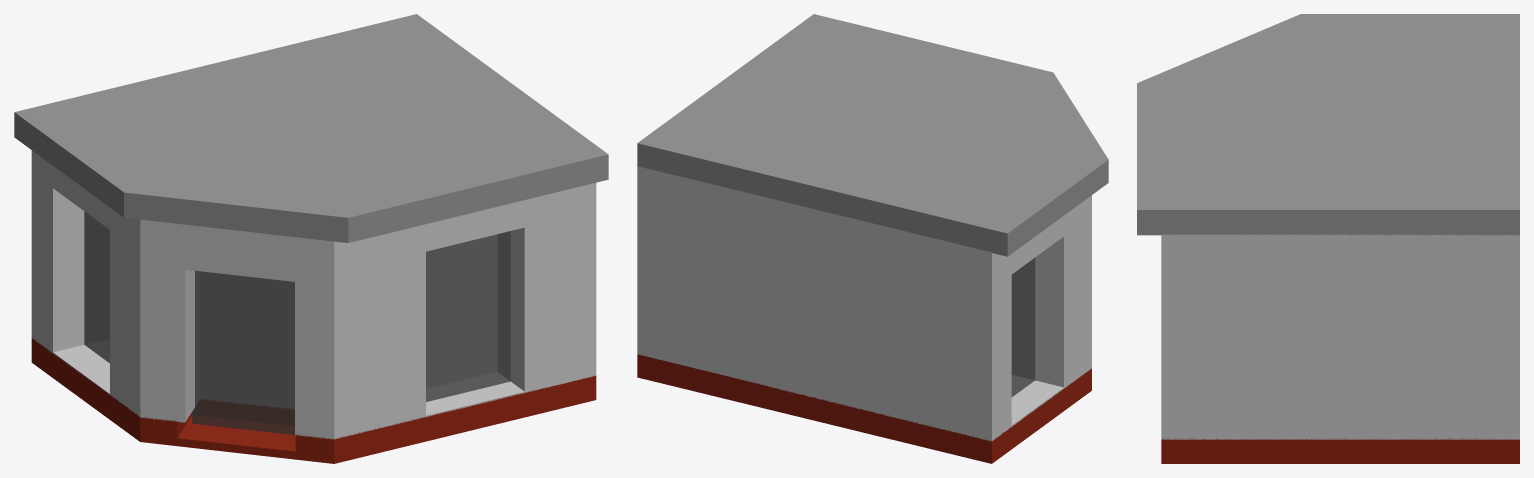
Rendered from edificio1.fbx.
3 renders of one model, left to right at view 1: azimuth 30°, elevation 25°; view 2: azimuth 150°, elevation 25°; view 3: azimuth 270°, elevation 25°, orthographic. The views are drawn at different scales.
Visible parts, largest first — view 1: BASE, SegundaParte, Vetanas - Puertas, Primera-Parte; view 2: BASE, SegundaParte, Primera-Parte, Vetanas - Puertas; view 3: SegundaParte, BASE, Primera-Parte.
Boxes of the visible parts, x1,y1,x2,y2 form: BASE: (31, 150, 596, 439); SegundaParte: (14, 14, 608, 242); Vetanas - Puertas: (84, 211, 510, 435); Primera-Parte: (31, 338, 596, 463); BASE: (637, 166, 1091, 441); SegundaParte: (637, 14, 1108, 256); Primera-Parte: (637, 354, 1091, 463); Vetanas - Puertas: (1011, 257, 1035, 397); SegundaParte: (1137, 14, 1519, 235); BASE: (1161, 234, 1519, 439); Primera-Parte: (1161, 438, 1519, 463).
Bounding box in the file's own units: 607 × 367 × 501.
